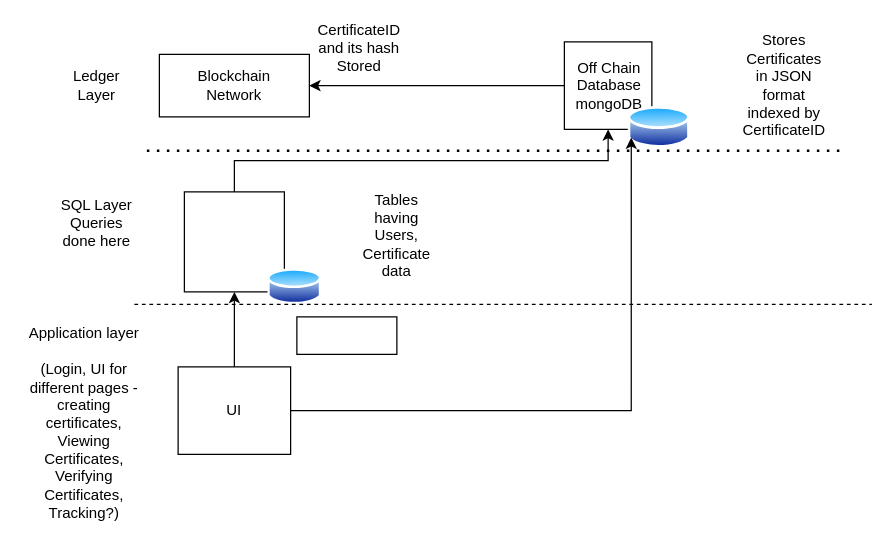
This 895x544 diagram has some shape labels left out. Here are the shapes that lost their labels. From the top down, the box of each, then its label:
(183, 191, 284, 292): User Data
(296, 316, 397, 354): JS/Express
